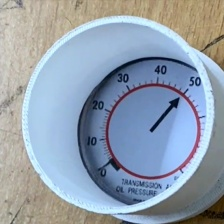gauge: (78, 58, 207, 204)
